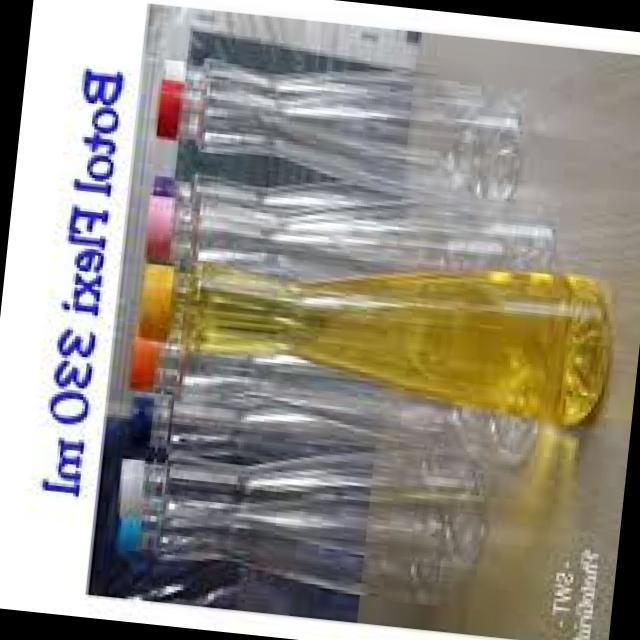good: (139, 223, 636, 420), (126, 158, 570, 324), (150, 43, 545, 224), (110, 430, 488, 579), (118, 368, 492, 516)
